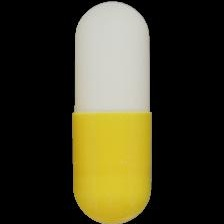42291-194: (0, 0, 224, 224)
